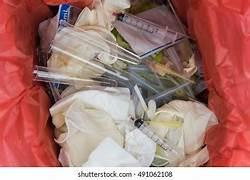Syringe: (116, 13, 187, 41), (131, 118, 177, 155)
